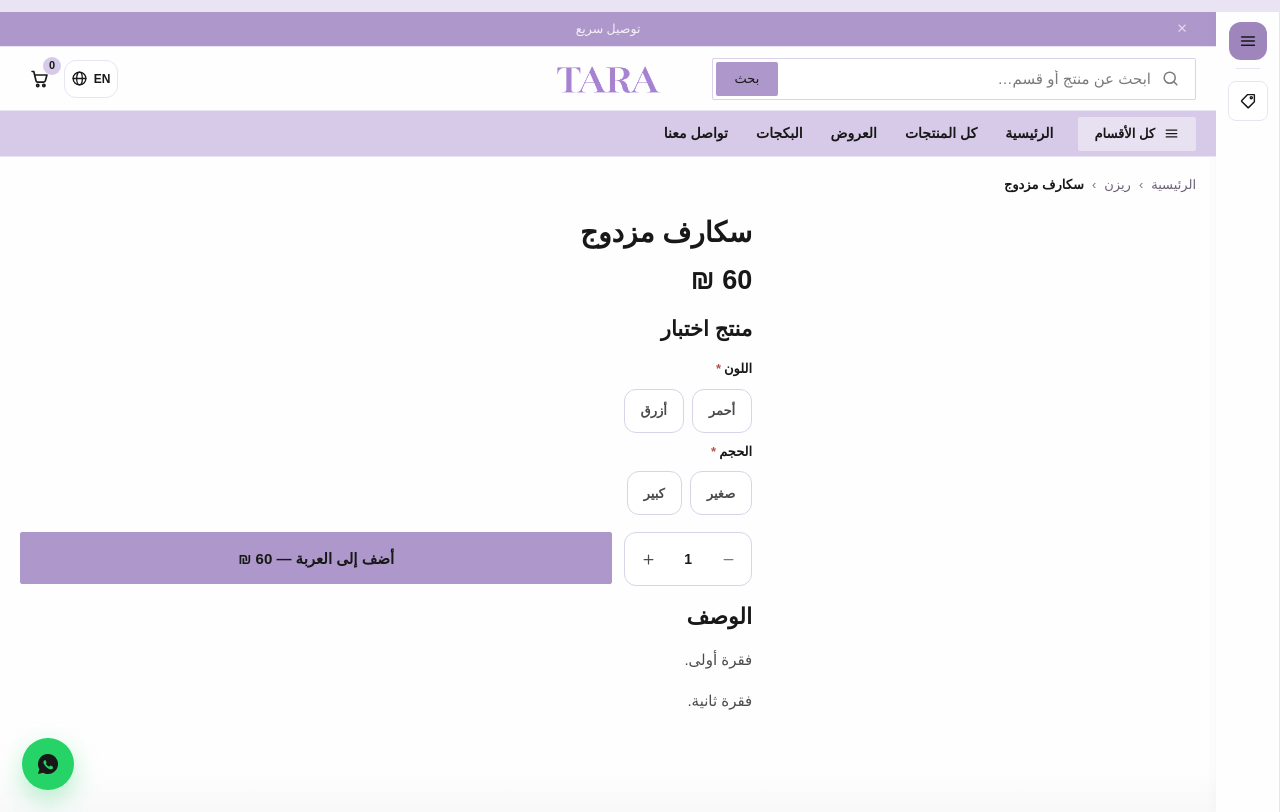
Test case: storefront multi-axis selection › resolves the variant that matches one value from each axis
Click the button "أزرق": [654, 410] box x1=624 y1=388 x2=684 y2=432
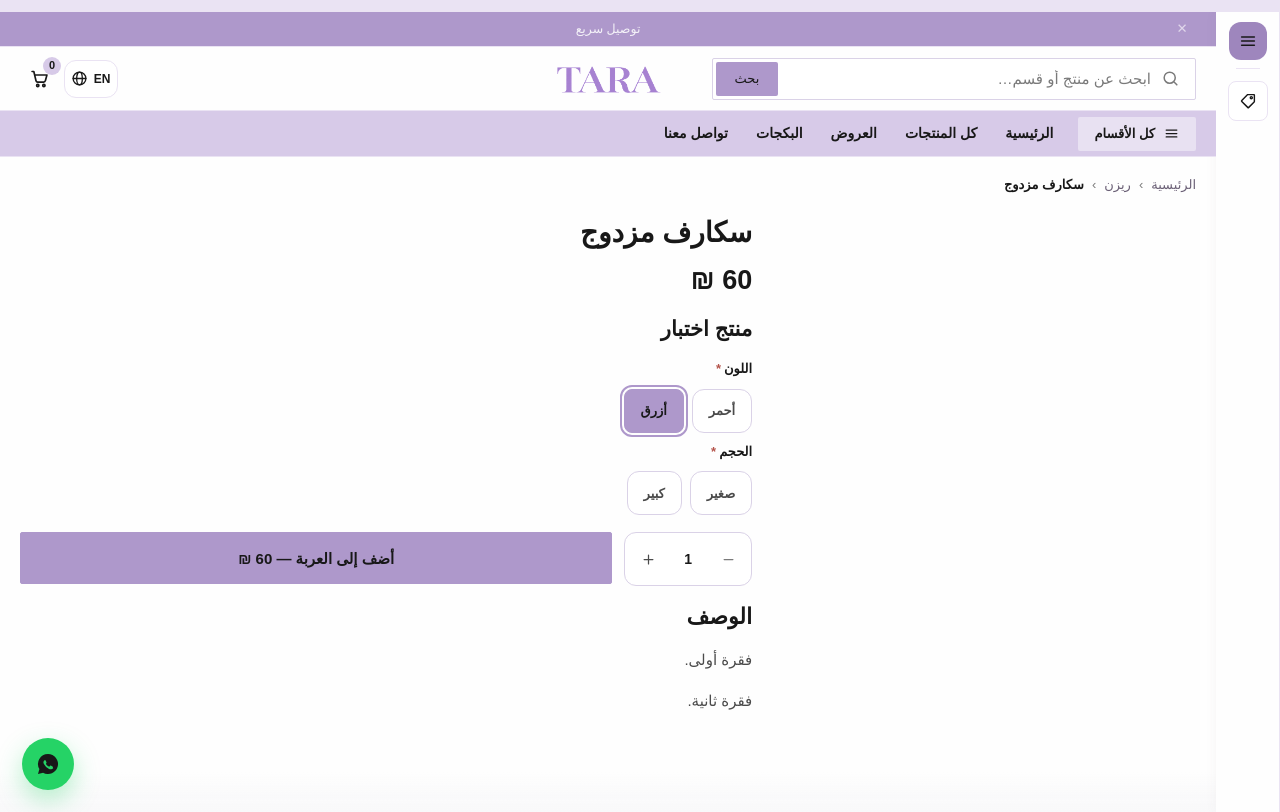
Click the button "كبير": [654, 493] box x1=626 y1=471 x2=682 y2=515
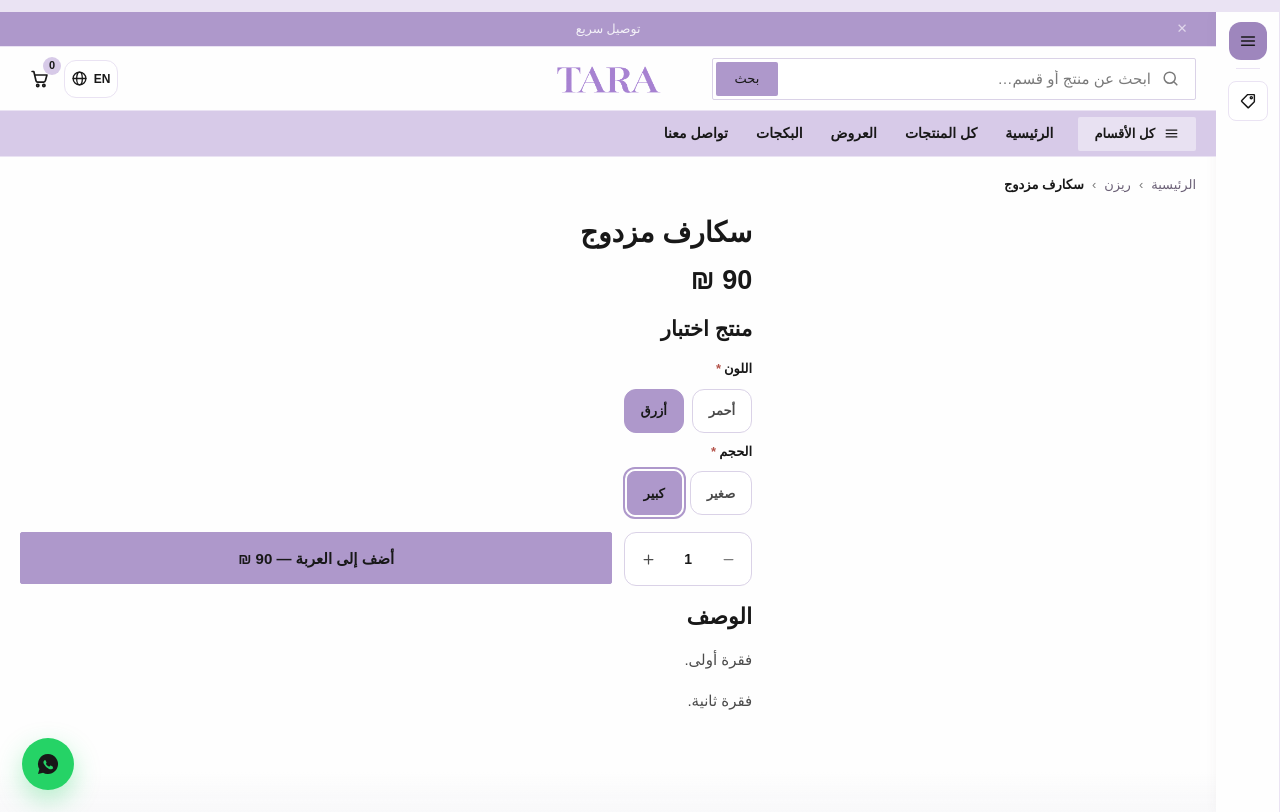
Result: the text "90 ₪" is shown at x1=691 y1=262 x2=752 y2=300
